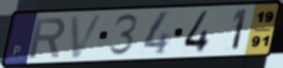1: (230, 7, 249, 54)
3: (107, 13, 140, 57)
4: (141, 10, 172, 57), (182, 9, 211, 54)
R: (27, 16, 68, 60)
V: (69, 12, 107, 60)
